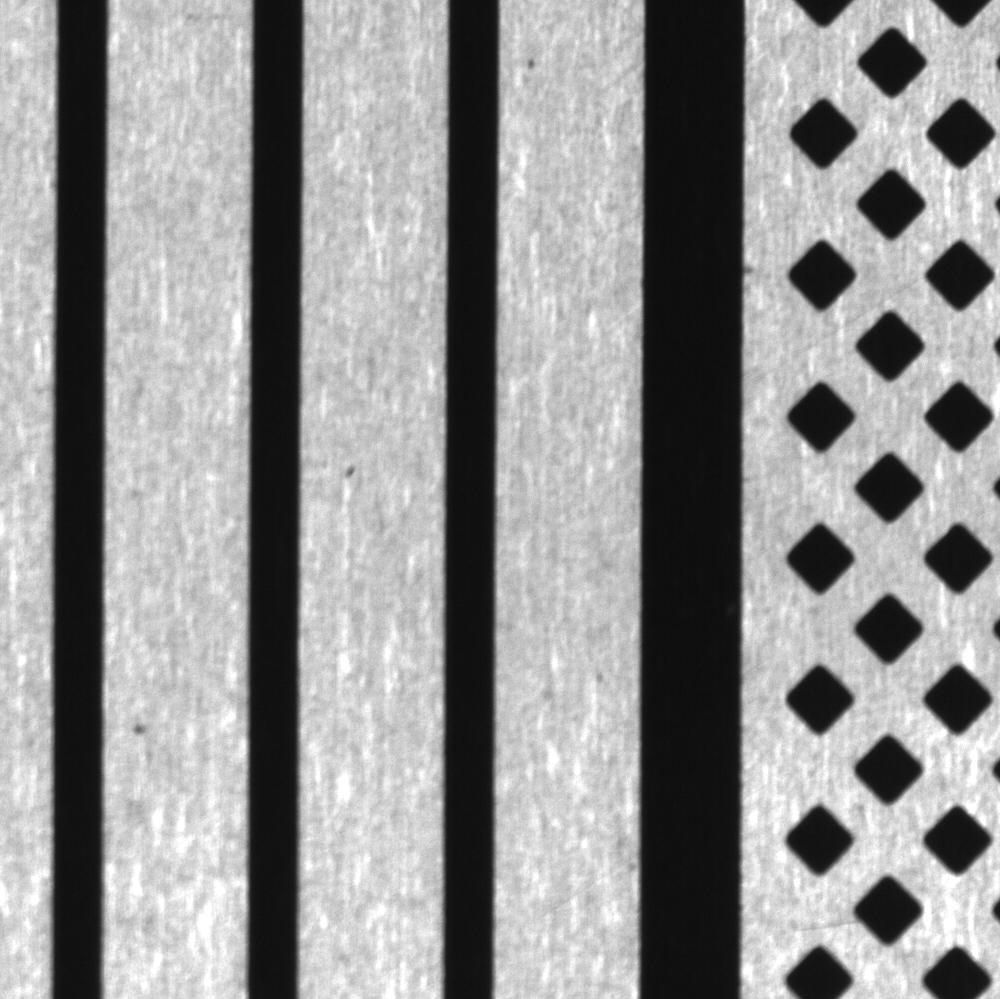Etching: (329, 444, 372, 488)
Pinhole: (121, 709, 164, 757), (515, 43, 553, 83)
Scar: (745, 311, 855, 386), (763, 899, 863, 945), (861, 273, 921, 316)
